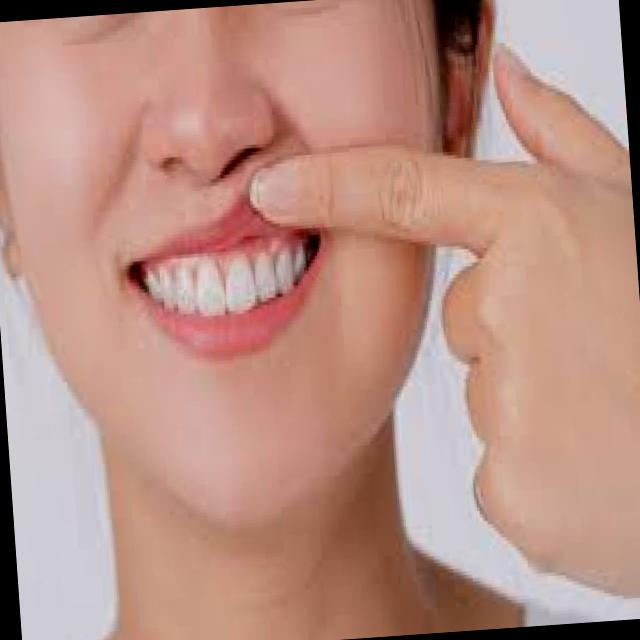abscess: (252, 221, 299, 275)
